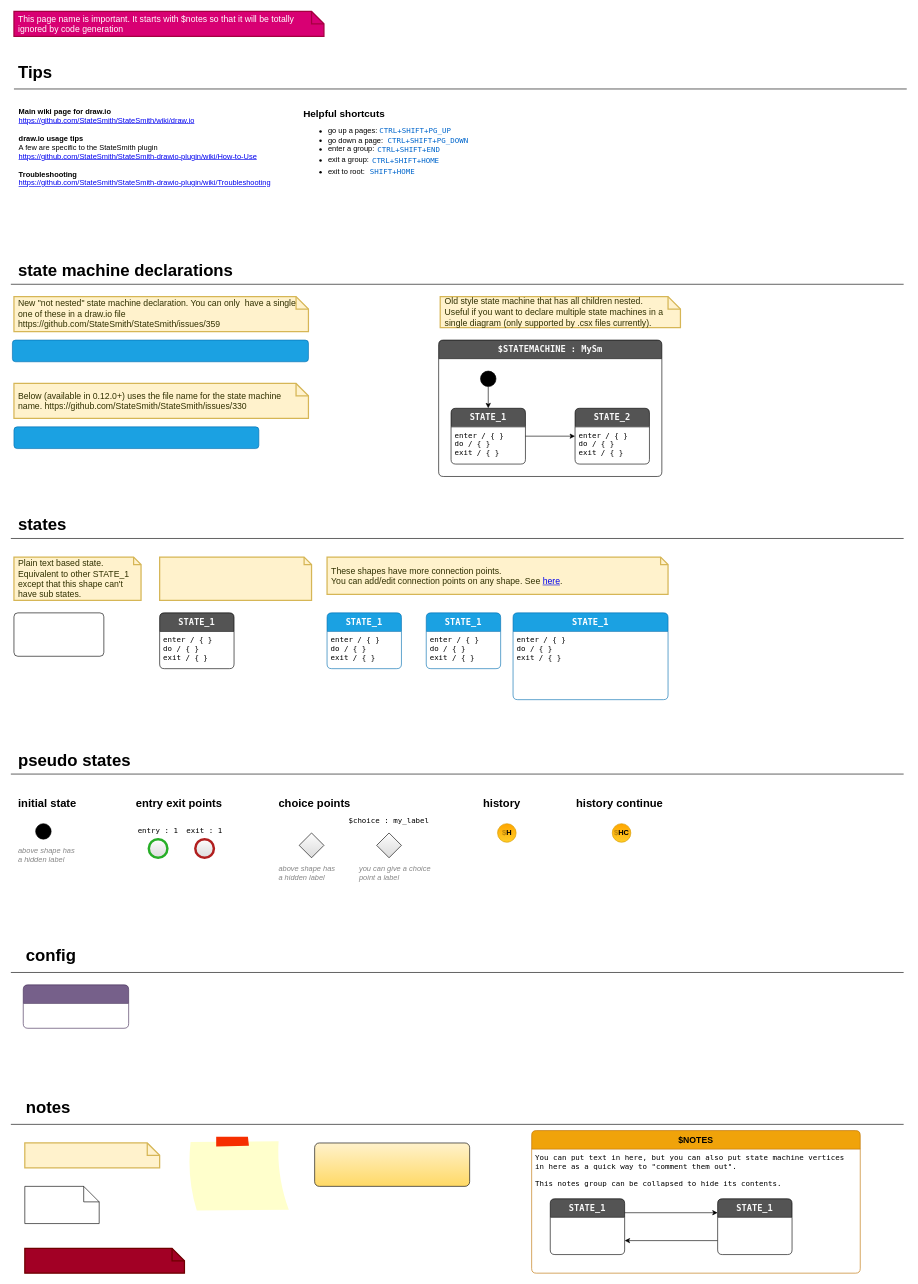
The diagram is 918 pixels wide and 1284 high, and some of its shapes have lost their labels. Here are the shapes that lost their labels. From the top down, the centre of each, then its label:
(x=160, y=350): $STATEMACHINE : Enemy1Sm
(x=136, y=437): $STATEMACHINE : {fileName}
(x=235, y=578): State "group" shape that can easily have sub states added to it.
(x=58, y=634): STATE_1 enter / { } exit / { } do / { }
(x=76, y=1006): $CONFIG : toml
(x=92, y=1155): some notes and stuff...
(x=238, y=1173): a big sticky note
(x=392, y=1164): $NOTES Original style notes
(x=61, y=1205): another note style
(x=104, y=1260): you can style however you want
